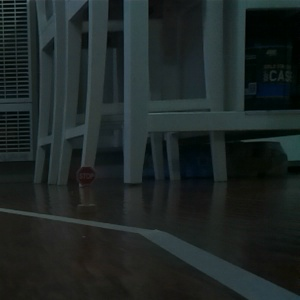stop sign: (74, 164, 98, 213)
